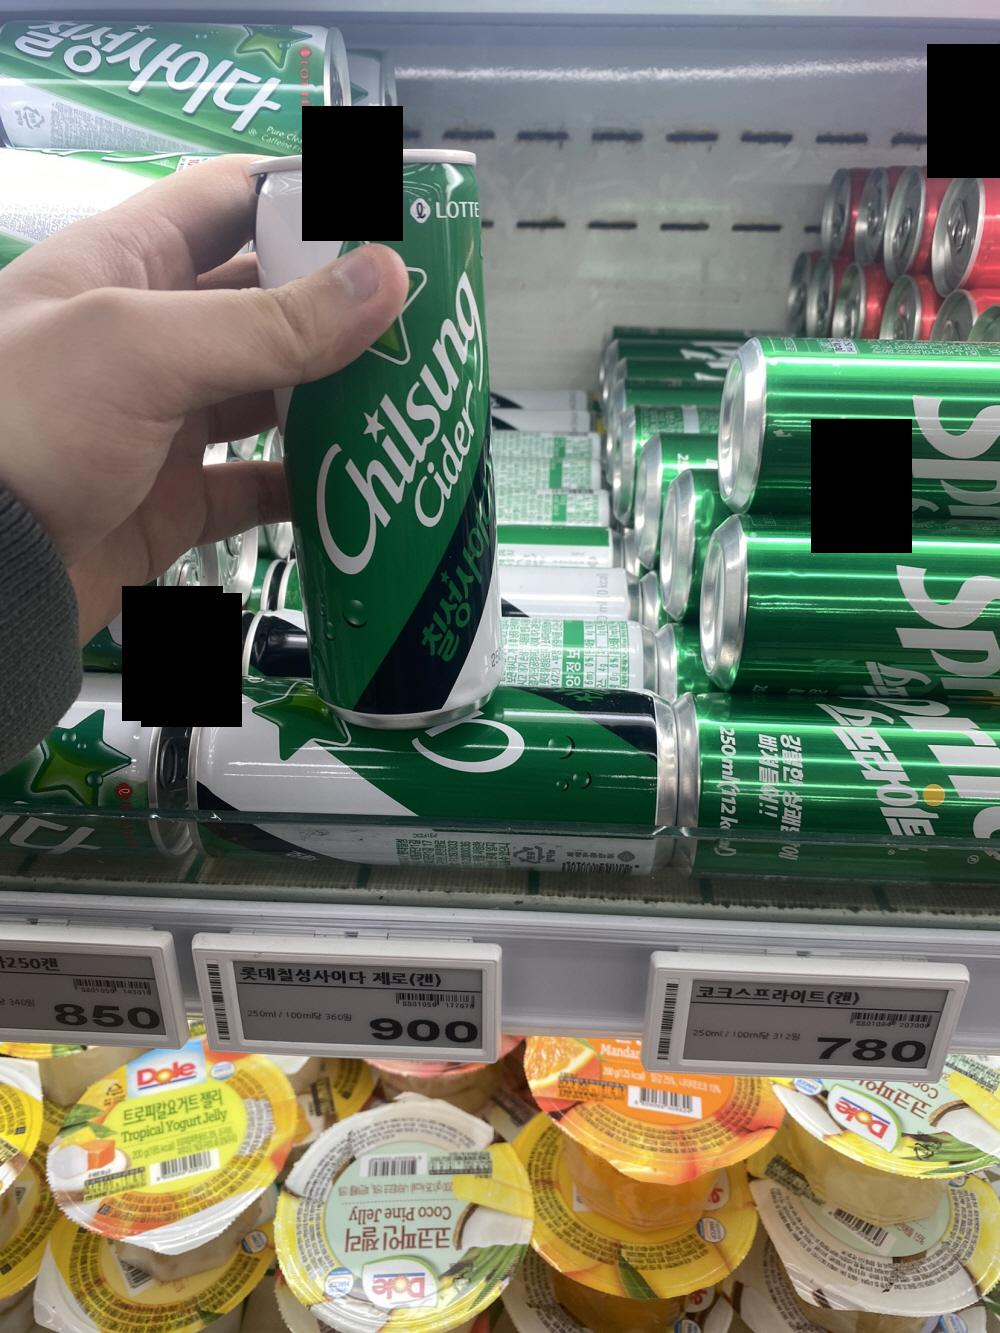chilsungcider_zero: (255, 144, 496, 723), (188, 676, 678, 865)
